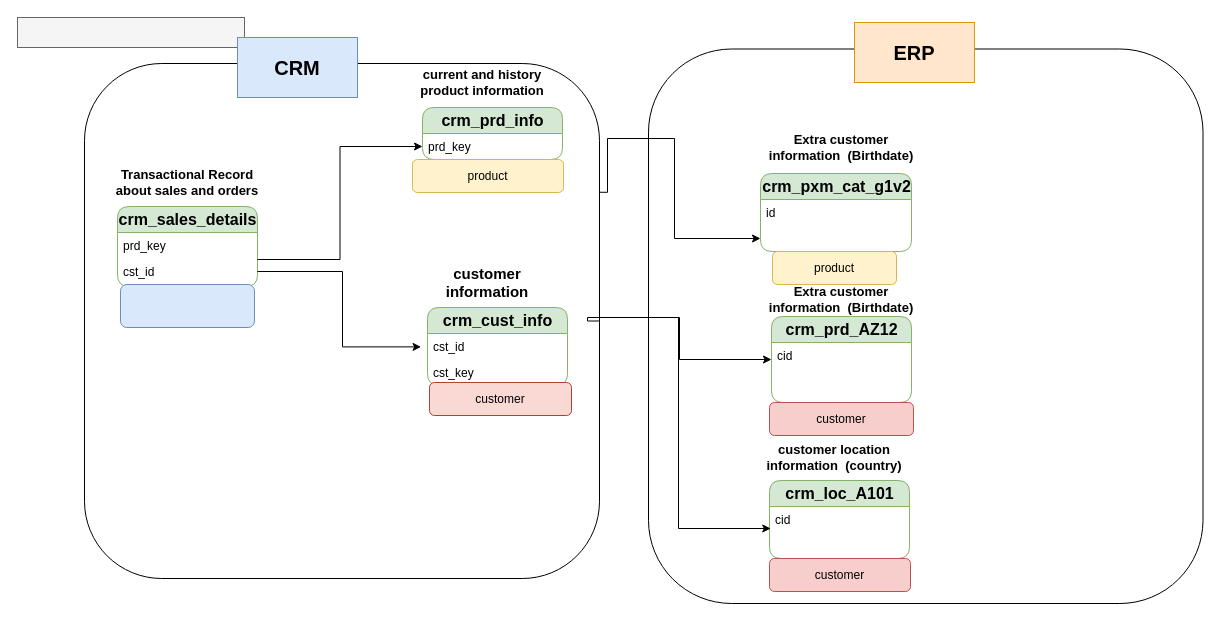
Some shapes in this 1221 by 621 pixel diagram are drawn without their labels. Here are the shapes that lost their labels. From the top down, the centre of each, then its label:
(x=130, y=32): Integration model
(x=187, y=306): sales
